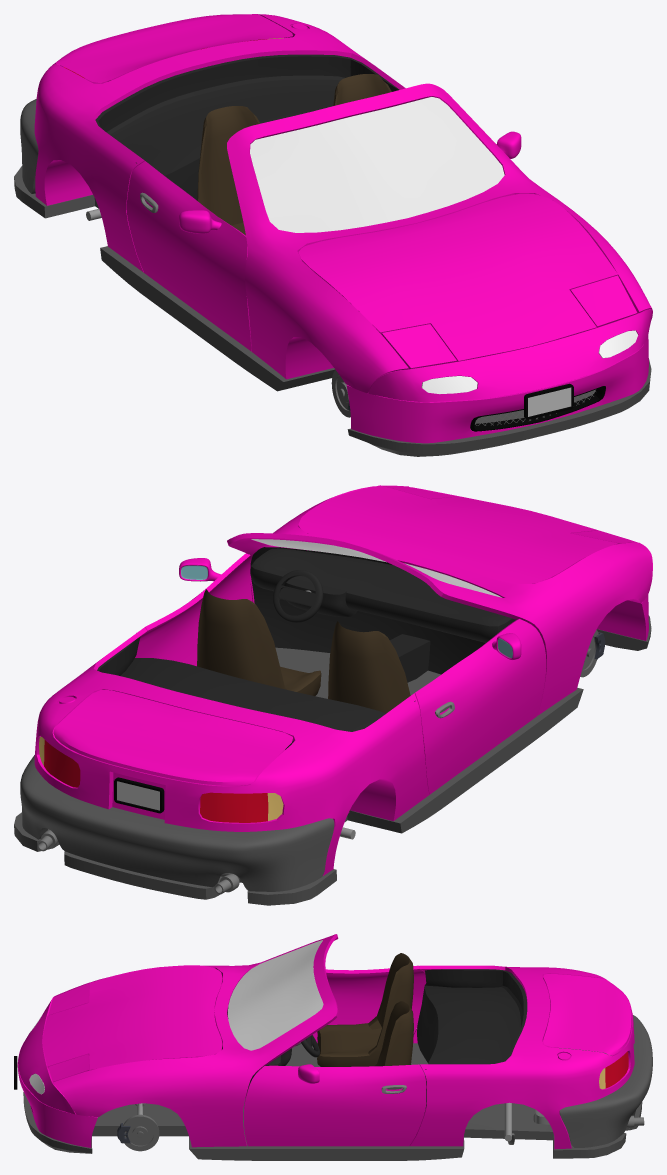
Rendered from Miata Lower Poly.fbx.
The picture shows the model from 3 angles, top to bottom: view 1: azimuth 30°, elevation 25°; view 2: azimuth 150°, elevation 25°; view 3: azimuth 270°, elevation 25°; orthographic projection. The views are drawn at different scales.
Visible parts, largest first — view 1: Trunk; view 2: Trunk; view 3: Trunk.
Boxes of the visible parts, x1=… form: Trunk: x1=14, y1=14, x2=652, y2=456; Trunk: x1=14, y1=485, x2=652, y2=905; Trunk: x1=14, y1=934, x2=652, y2=1160.
Size of the model in its own units: 411 by 232 by 890.
